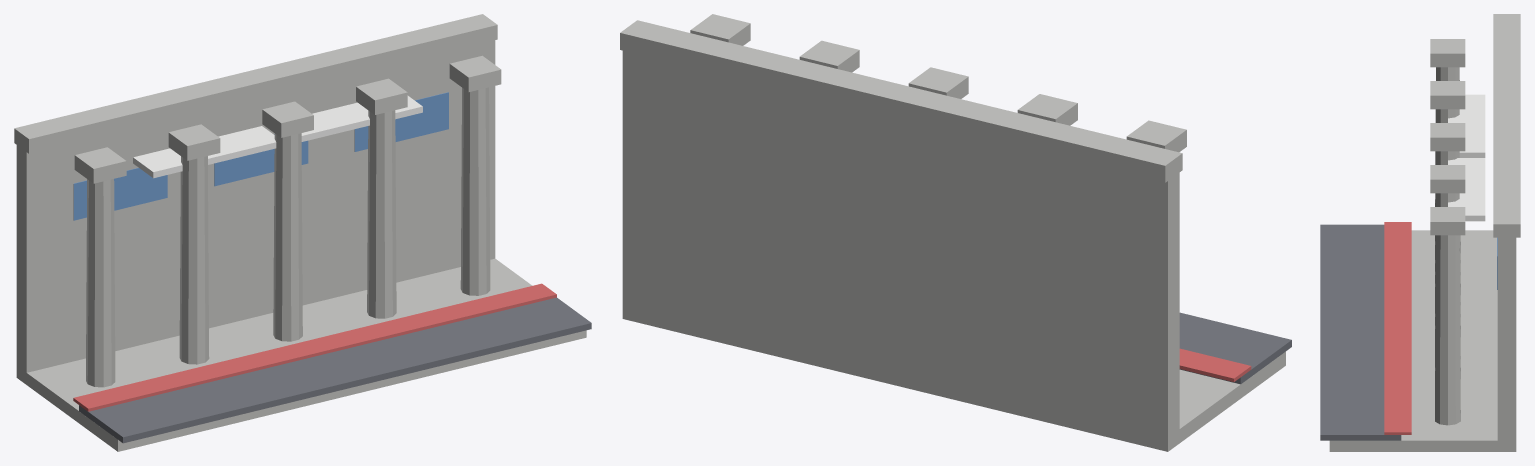
The model's file is martial-arts-dojo-and-fight-stages-subway-platform-set-0b2e4187__18081.glb.
3 views of the same model, side by side, from view 1: azimuth 30°, elevation 25°; view 2: azimuth 150°, elevation 25°; view 3: azimuth 270°, elevation 25° (orthographic). The views are drawn at different scales.
Visible parts, largest first — view 1: subway-platform-set; view 2: subway-platform-set; view 3: subway-platform-set.
Part boxes in pixels (x1=…): subway-platform-set: x1=14, y1=14, x2=591, y2=451; subway-platform-set: x1=620, y1=14, x2=1291, y2=451; subway-platform-set: x1=1320, y1=14, x2=1520, y2=451.
Bounding box in the file's own units: 8 × 4.04 × 3.22.
